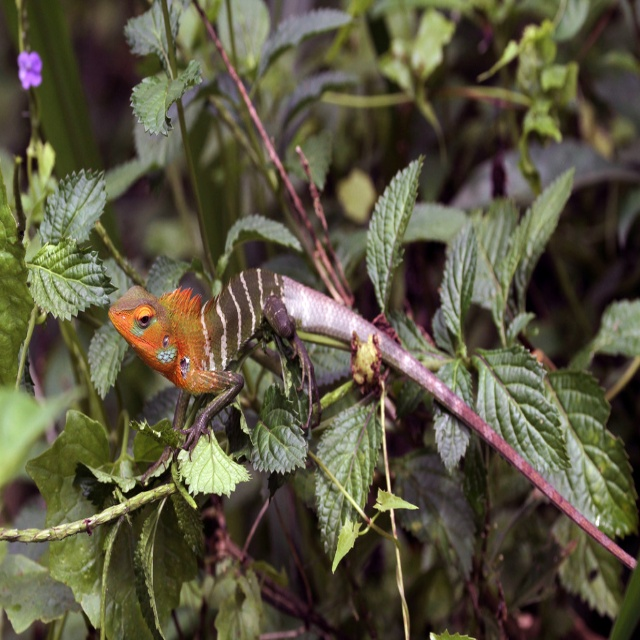Lizard: (108, 266, 637, 570)
